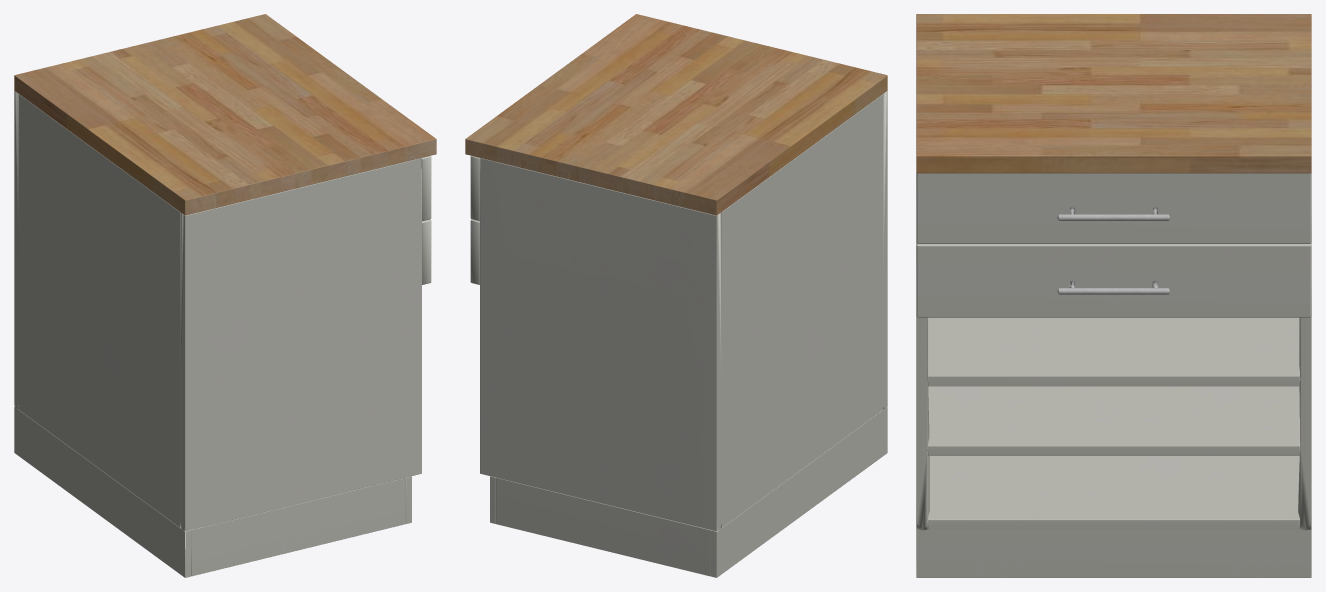
Rendered from fixture_cabinet_b01.glb.
3 renders of one model, left to right at view 1: azimuth 30°, elevation 25°; view 2: azimuth 150°, elevation 25°; view 3: azimuth 270°, elevation 25°, orthographic. The views are drawn at different scales.
Visible parts, largest first — view 1: sm_fixture_cabinet_b01_01; view 2: sm_fixture_cabinet_b01_01; view 3: sm_fixture_cabinet_b01_01.
Part boxes in pixels (x1,y1,x2,y2): sm_fixture_cabinet_b01_01: [14, 14, 436, 577]; sm_fixture_cabinet_b01_01: [465, 14, 887, 577]; sm_fixture_cabinet_b01_01: [916, 14, 1311, 577].
Bounding box in the file's own units: 0.6806 × 0.9285 × 0.762.
10 materials, 9 textured.
